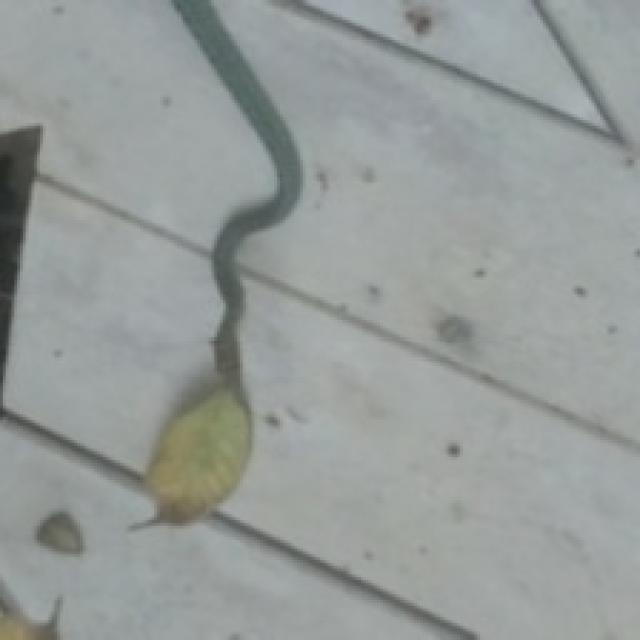paradise tree snake: (173, 0, 301, 412)
